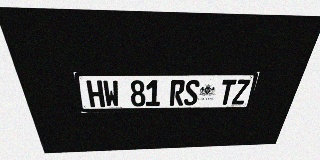1: (145, 80, 160, 106)
8: (130, 80, 145, 107)
H: (86, 80, 105, 107)
R: (169, 80, 185, 106)
S: (183, 80, 200, 106)
T: (218, 79, 237, 105)
W: (102, 80, 120, 107)
Z: (231, 79, 251, 105)
